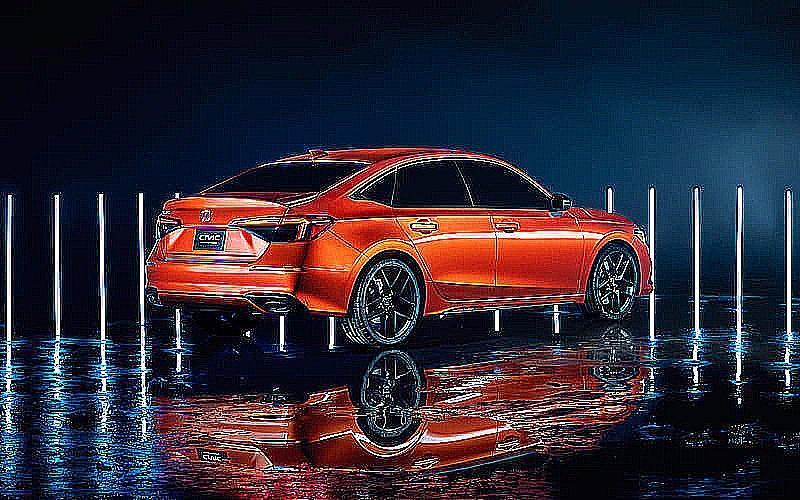Car boot: (151, 187, 317, 267)
Driver-s door - -F-R-: (498, 163, 586, 297)
Fender - -F-R-: (559, 197, 659, 322)
Fender - -R-R-: (294, 183, 441, 316)
Front bumper: (625, 235, 670, 308)
Headlight - -R-: (618, 222, 667, 255)
Passenger-s door - -R-R-: (389, 153, 495, 300)
Rear bumper: (136, 234, 372, 322)
Rear light - -L-: (145, 212, 189, 248)
Rear light - -R-: (223, 206, 343, 252)
Side bumper - -R-: (412, 279, 587, 322)
Side mirror - -R-: (537, 177, 581, 226)
